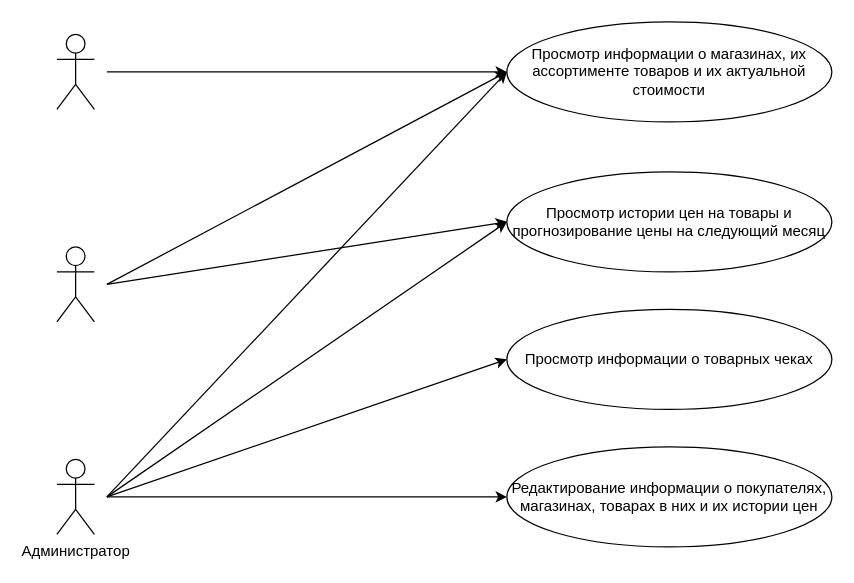
This 854x583 diagram has some shape labels left out. The shapes that lost their labels are listed below. From the top down, each one's centre as x and y in pixels, then its label:
At point (75, 71): "Пользователь".
At point (75, 284): "Аналитик".
